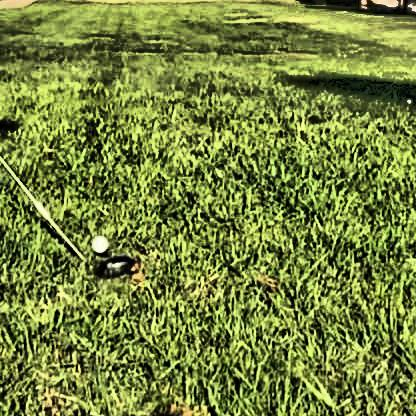golfball: (89, 231, 108, 252)
